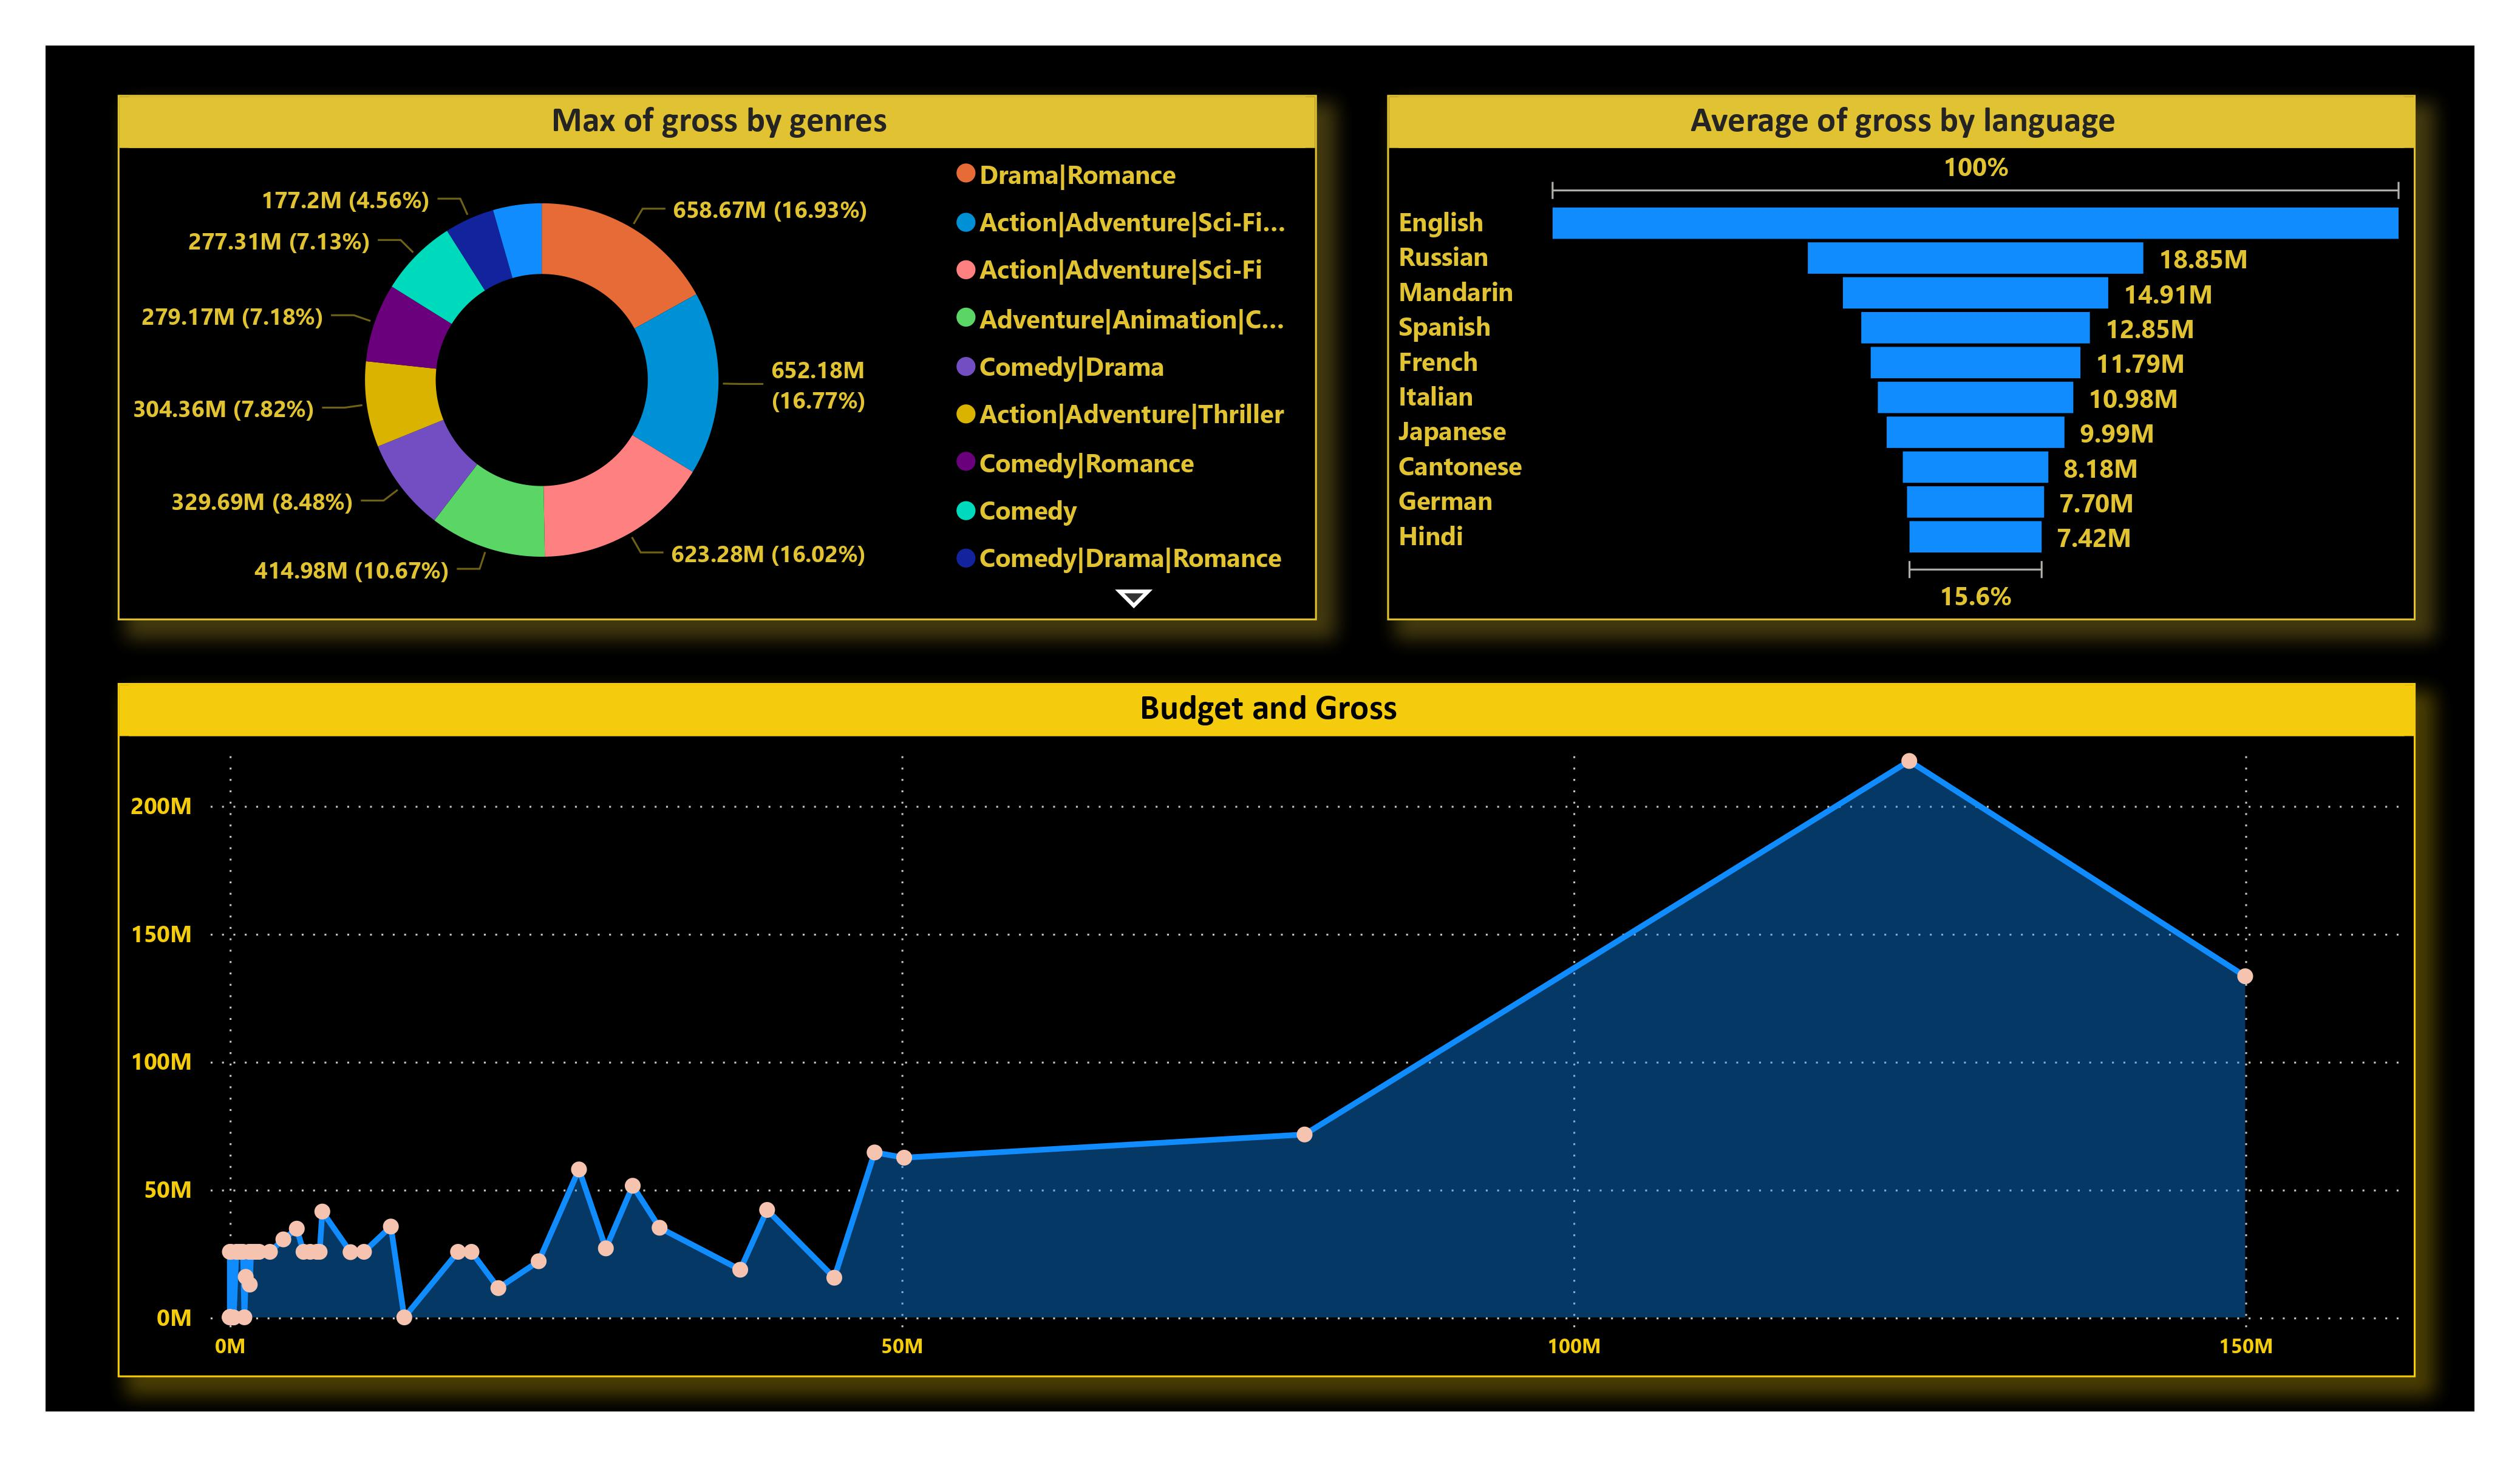

The page's visual inventory and layout, read from the dashboard file:
{"tool":"powerbi","page":{"name":"Page 6","canvas":[1280,720],"ordinal":5},"visuals":[{"type":"areaChart","title":"Budget and Gross","fields":{"Category":["imdb_cleaned.budget"],"Y":["Avg(imdb_cleaned.gross)"]},"box":[38.4,335.9,1210.6,366.1],"z":0},{"type":"donutChart","fields":{"Y":["Max(imdb_cleaned.gross)"],"Category":["imdb_cleaned.genres"]},"box":[38.4,26,632.1,277],"z":1},{"type":"funnel","fields":{"Y":["Avg(imdb_cleaned.gross)"],"Category":["imdb_cleaned.language"]},"box":[707.5,26,541.6,277],"z":2}]}

Visuals, with their boxes on the page's 1280x720 design canvas (x1, y1, x2, y2). These are canvas units, not pixel positions in the 2520x1457 screenshot, which may show the page scaled, cropped or inside an application window:
"Budget and Gross" areaChart: [38,336,1249,702]
donutChart - Max(imdb_cleaned.gross) x imdb_cleaned.genres: [38,26,670,303]
funnel - Avg(imdb_cleaned.gross) x imdb_cleaned.language: [708,26,1249,303]
